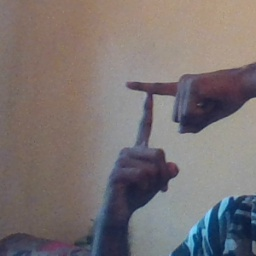T: (109, 67, 193, 168)
